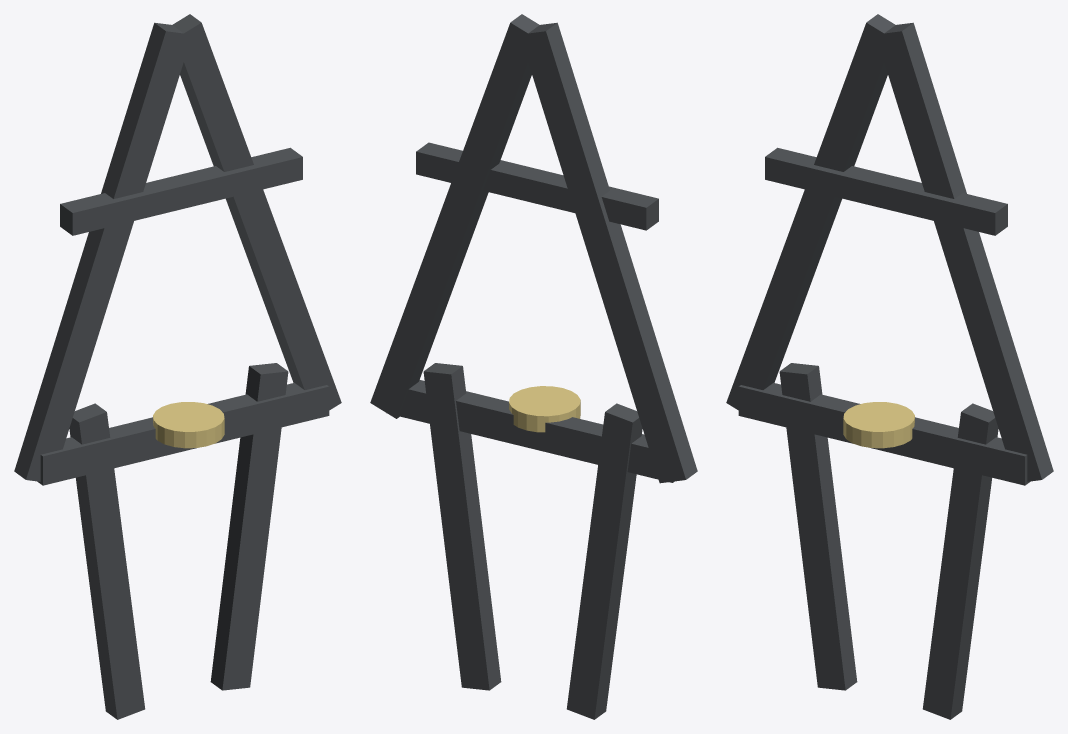
The model's file is harness_lod1.glb.
The picture shows the model from 3 angles, left to right: view 1: azimuth 30°, elevation 25°; view 2: azimuth 150°, elevation 25°; view 3: azimuth 330°, elevation 25°; orthographic projection.
Parts seen in each view (by area): view 1: strap-upper--1, strap-upper-1, strap-lower-1, strap-lower--1, waist, chest, ring; view 2: strap-upper--1, strap-upper-1, strap-lower-1, strap-lower--1, waist, chest, ring; view 3: strap-upper-1, strap-upper--1, strap-lower--1, strap-lower-1, waist, chest, ring.
Part boxes in pixels (x1,y1,x2,y2): strap-upper--1: [14, 22, 191, 481]; strap-upper-1: [172, 14, 341, 410]; strap-lower-1: [210, 363, 288, 690]; strap-lower--1: [69, 403, 145, 719]; waist: [37, 383, 329, 485]; chest: [60, 147, 302, 235]; ring: [153, 402, 224, 448]; strap-upper--1: [520, 22, 697, 483]; strap-upper-1: [370, 14, 539, 418]; strap-lower-1: [423, 363, 501, 690]; strap-lower--1: [566, 403, 642, 719]; waist: [386, 380, 674, 482]; chest: [416, 142, 658, 230]; ring: [509, 386, 580, 432]; strap-upper-1: [876, 22, 1053, 481]; strap-upper--1: [726, 14, 895, 410]; strap-lower--1: [779, 363, 857, 690]; strap-lower-1: [922, 403, 998, 719]; waist: [738, 383, 1030, 485]; chest: [765, 147, 1007, 235]; ring: [843, 402, 914, 448].
Size of the model in its own units: 1.02 by 2.08 by 0.2.
